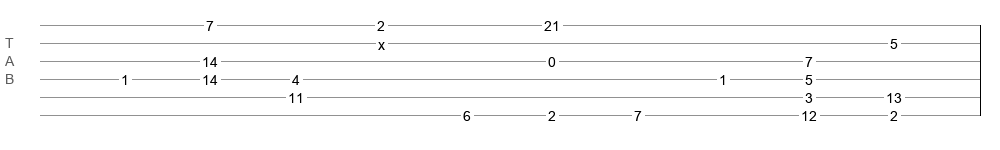0: (548, 54, 556, 64)
1: (121, 72, 129, 82), (719, 72, 727, 82)
11: (288, 90, 304, 100)
12: (801, 108, 817, 118)
13: (886, 90, 902, 100)
14: (202, 54, 218, 64), (202, 72, 218, 82)
2: (377, 18, 385, 28), (548, 108, 556, 118), (890, 108, 898, 118)
21: (544, 18, 560, 28)
3: (805, 90, 813, 100)
4: (292, 72, 300, 82)
5: (805, 72, 813, 82), (890, 36, 898, 46)
6: (463, 108, 471, 118)
7: (206, 18, 214, 28), (634, 108, 642, 118), (805, 54, 813, 64)
x: (378, 37, 385, 45)
